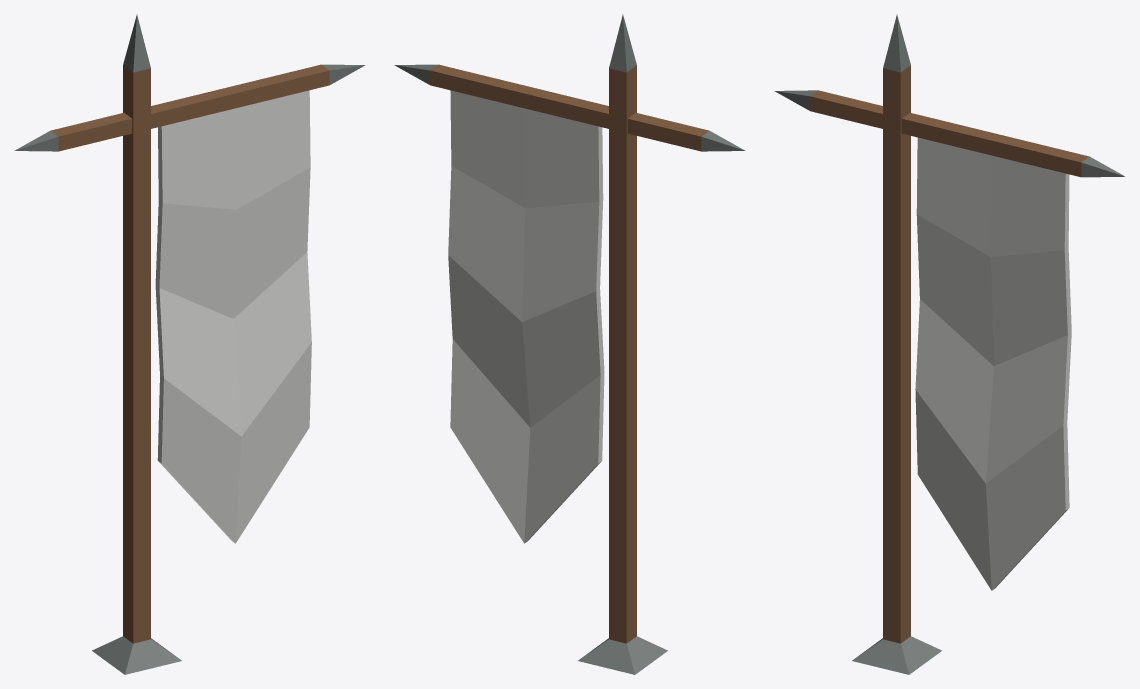
The model's file is Banner_1_White.fbx.
3 views of the same model, side by side, from view 1: azimuth 30°, elevation 25°; view 2: azimuth 150°, elevation 25°; view 3: azimuth 330°, elevation 25° (orthographic).
Visible parts, largest first — view 1: Banner_1_White_Part_3, Banner_1_White_Part_1, Banner_1_White_Part_2; view 2: Banner_1_White_Part_3, Banner_1_White_Part_1, Banner_1_White_Part_2; view 3: Banner_1_White_Part_3, Banner_1_White_Part_1, Banner_1_White_Part_2.
Part boxes in pixels (<box>): Banner_1_White_Part_3: <box>155,90,311,543</box>; Banner_1_White_Part_1: <box>50,64,329,643</box>; Banner_1_White_Part_2: <box>14,14,365,674</box>; Banner_1_White_Part_3: <box>448,90,604,543</box>; Banner_1_White_Part_1: <box>430,64,709,643</box>; Banner_1_White_Part_2: <box>394,14,745,674</box>; Banner_1_White_Part_3: <box>915,137,1071,590</box>; Banner_1_White_Part_1: <box>810,65,1089,643</box>; Banner_1_White_Part_2: <box>774,14,1124,674</box>.
Bounding box in the file's own units: 172 × 300 × 28.14.
